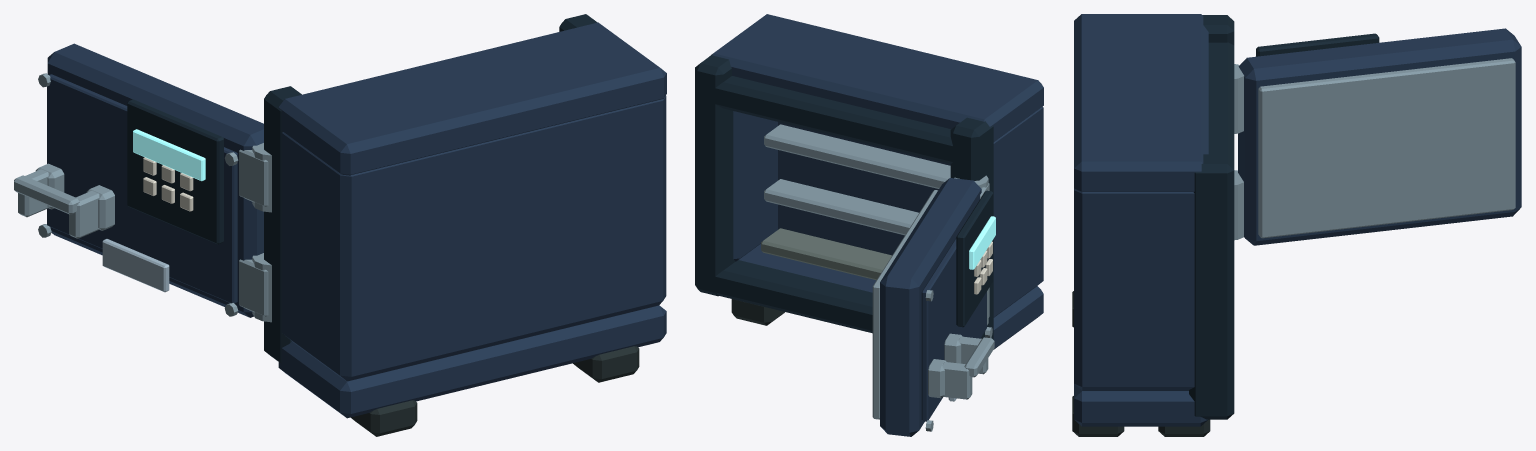
The model's file is wall_data_safe_opened.glb.
3 renders of one model, left to right at view 1: azimuth 30°, elevation 25°; view 2: azimuth 150°, elevation 25°; view 3: azimuth 270°, elevation 25°, orthographic. The views are drawn at different scales.
Visible parts, largest first — view 1: body_back_wall, body_roof, body_left_wall, moving_front_inset, body_floor, moving_door, moving_control_panel, body_right_wall, front_frame, rubber_foot (×2), moving_hinge_leaf (×2), moving_data_badge (+5 smaller); view 2: front_frame (×4), body_roof, moving_door, body_back_wall, interior_shelf (×2), body_left_wall, body_right_wall, moving_front_inset, body_floor, interior_lining, moving_control_panel, moving_inner_door_plate (+7 smaller); view 3: moving_inner_door_plate, body_right_wall, body_roof, front_frame (×3), moving_door, body_floor, body_back_wall, hinge_pin (×2), moving_control_panel, rubber_foot (×2).
Part boxes in pixels (x1=…): body_back_wall: x1=327, y1=99, x2=663, y2=380; body_roof: x1=278, y1=22, x2=666, y2=175; body_left_wall: x1=281, y1=132, x2=373, y2=381; moving_front_inset: x1=47, y1=74, x2=237, y2=303; body_floor: x1=278, y1=305, x2=666, y2=418; moving_door: x1=47, y1=43, x2=263, y2=317; moving_control_panel: x1=127, y1=99, x2=223, y2=244; body_right_wall: x1=641, y1=96, x2=666, y2=305; front_frame: x1=264, y1=86, x2=301, y2=362; rubber_foot (×2): x1=351, y1=346, x2=639, y2=436; moving_hinge_leaf (×2): x1=239, y1=149, x2=268, y2=316; moving_data_badge: x1=102, y1=239, x2=169, y2=292; front_frame (×4): x1=695, y1=55, x2=993, y2=339; body_roof: x1=709, y1=14, x2=1043, y2=141; moving_door: x1=880, y1=178, x2=981, y2=436; body_back_wall: x1=778, y1=107, x2=1043, y2=288; interior_shelf (×2): x1=764, y1=124, x2=950, y2=235; body_left_wall: x1=993, y1=106, x2=1043, y2=317; body_right_wall: x1=733, y1=111, x2=777, y2=261; moving_front_inset: x1=921, y1=238, x2=986, y2=421; body_floor: x1=739, y1=244, x2=1043, y2=349; interior_lining: x1=761, y1=228, x2=891, y2=280; moving_control_panel: x1=956, y1=190, x2=993, y2=327; moving_inner_door_plate: x1=872, y1=190, x2=937, y2=419; moving_inner_door_plate: x1=1258, y1=58, x2=1515, y2=238; body_right_wall: x1=1074, y1=188, x2=1194, y2=390; body_roof: x1=1074, y1=14, x2=1208, y2=192; front_frame (×3): x1=1189, y1=15, x2=1234, y2=419; moving_door: x1=1238, y1=28, x2=1521, y2=245; body_floor: x1=1074, y1=384, x2=1207, y2=426; body_back_wall: x1=1082, y1=192, x2=1106, y2=390; hinge_pin (×2): x1=1234, y1=64, x2=1243, y2=240; moving_control_panel: x1=1256, y1=33, x2=1379, y2=56; rubber_foot (×2): x1=1072, y1=396, x2=1210, y2=436.
Bounding box in the file's own units: 1.16 × 0.734 × 1.04.
